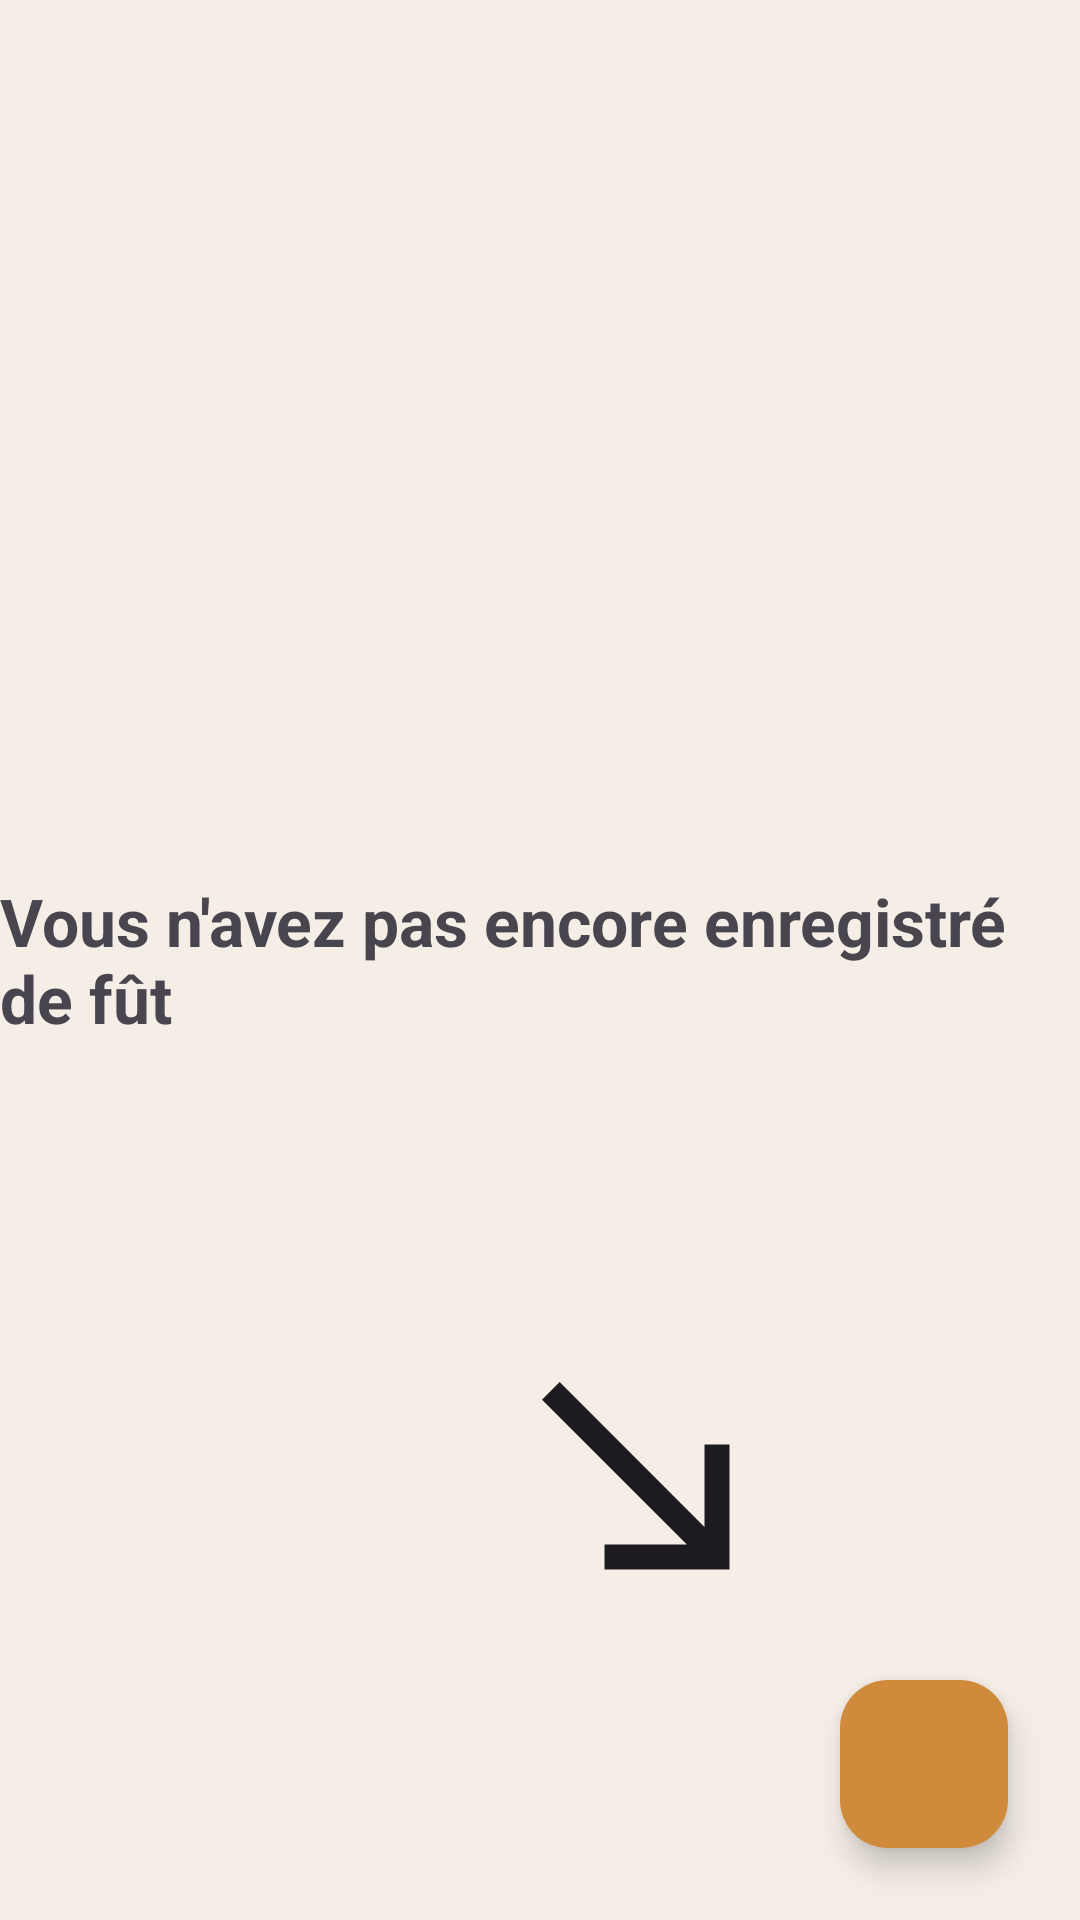

Icon click points for this 1080 × 1920 phone screenshot, format [x,y]:
arrow down right: [636,1476]
